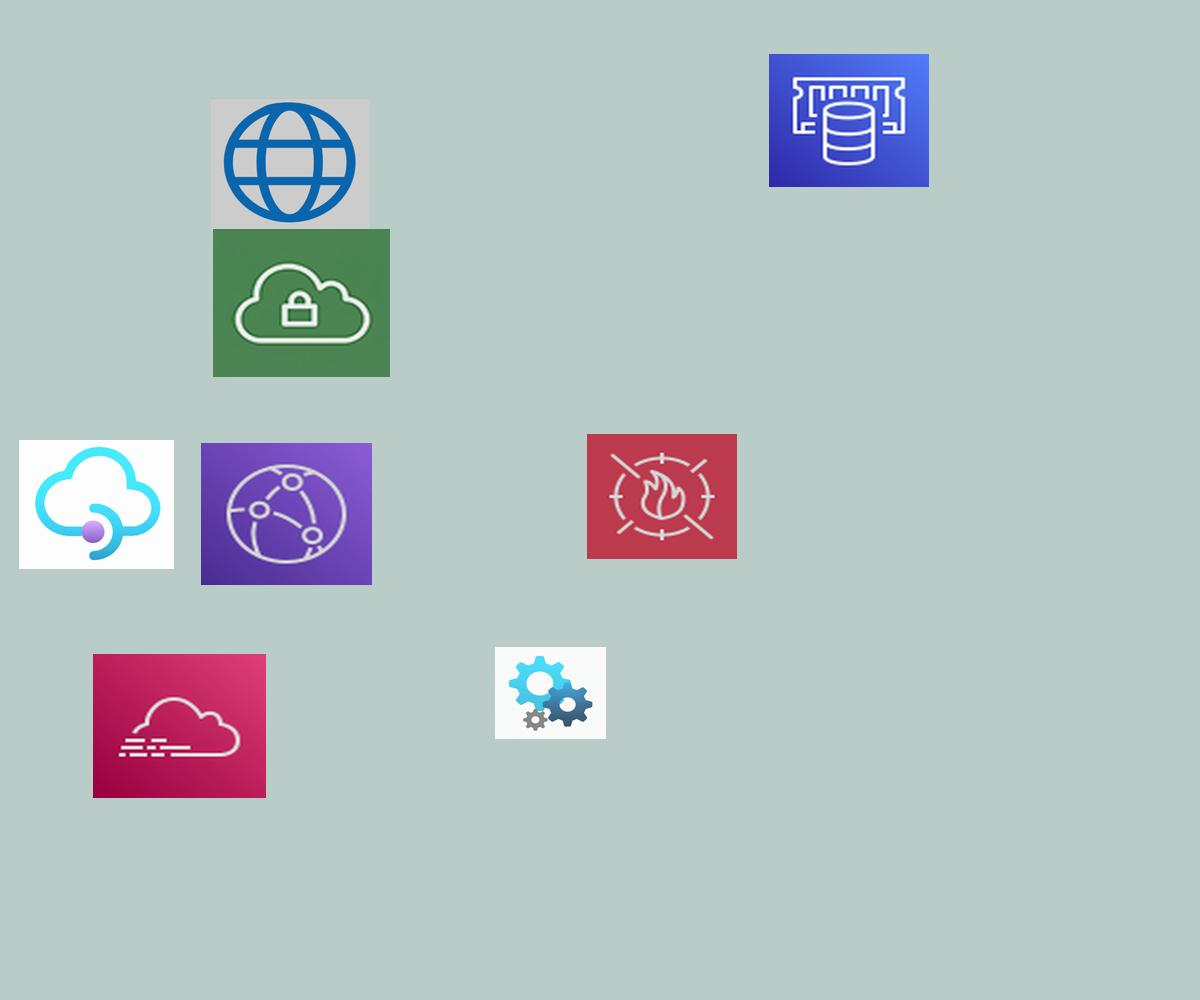AWS-CloudFront: (201, 443, 372, 585)
AWS-CloudTrail: (93, 654, 266, 798)
AWS-ElastiCache: (769, 54, 929, 187)
AWS-Private_vpc: (213, 229, 390, 377)
AWS-WAF: (587, 434, 737, 559)
Azure_api: (495, 647, 606, 739)
Azure_api_gateway: (19, 440, 174, 569)
Azure_http: (211, 98, 369, 230)
